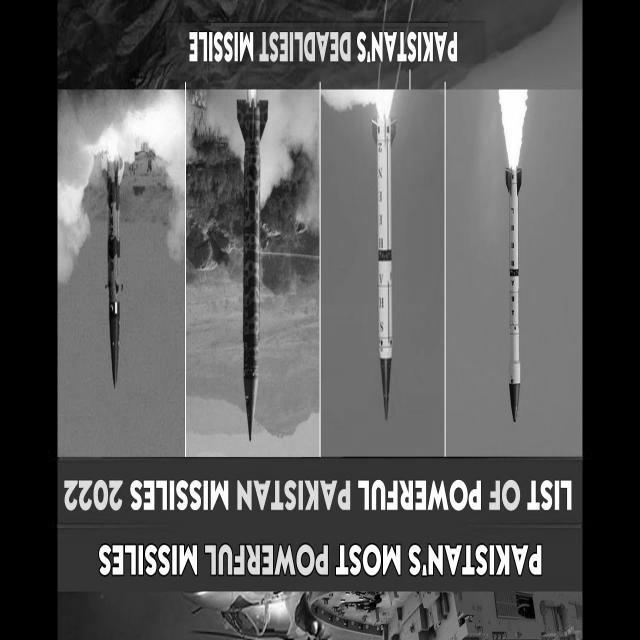missile: (232, 92, 266, 442), (369, 117, 396, 423), (501, 165, 526, 432), (100, 155, 125, 391)
